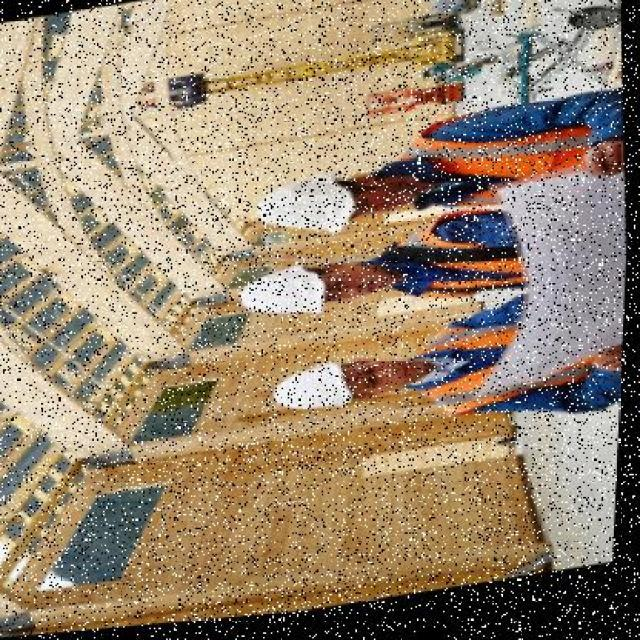helmet: (237, 173, 367, 254), (239, 262, 352, 330), (277, 362, 362, 424)
vest: (398, 99, 600, 223), (415, 306, 613, 430), (377, 208, 541, 314)
